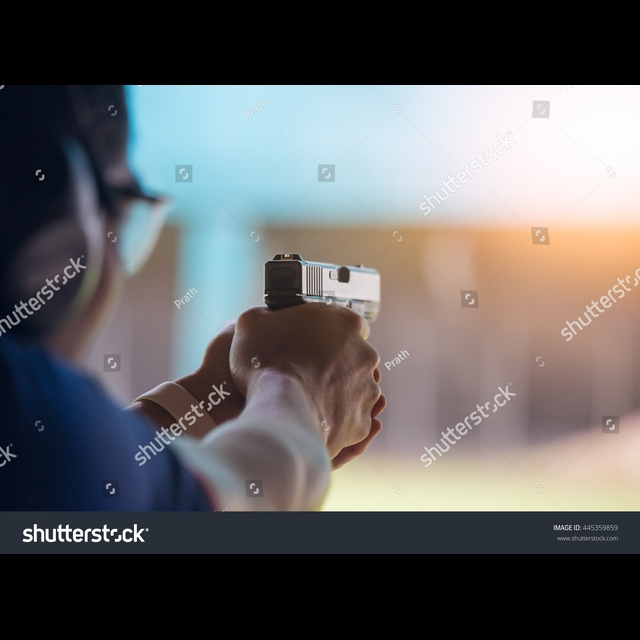SILAH: (260, 254, 398, 410)
